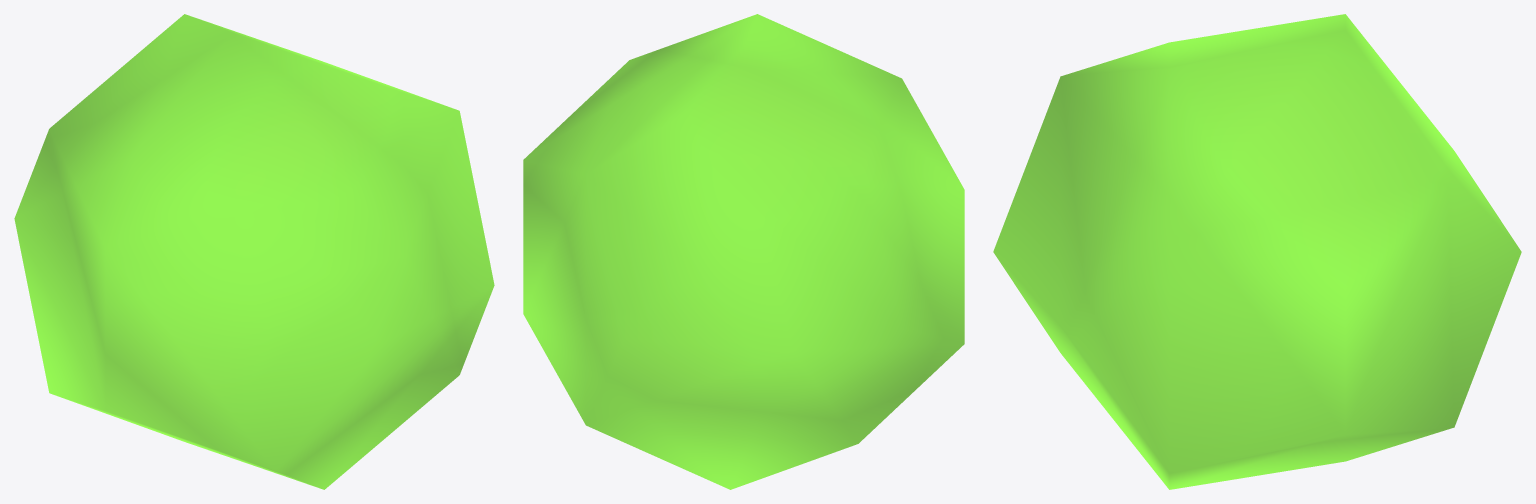
File: forceball-mage.fbx
3 views of the same model, side by side, from view 1: azimuth 30°, elevation 25°; view 2: azimuth 150°, elevation 25°; view 3: azimuth 270°, elevation 25° (orthographic). The views are drawn at different scales.
Parts seen in each view (by area): view 1: mesh01; view 2: mesh01; view 3: mesh01.
Boxes of the visible parts, x1,y1,x2,y2 form: mesh01: (14, 14, 494, 489); mesh01: (523, 14, 964, 489); mesh01: (993, 14, 1521, 489).
Size of the model in its own units: 159 by 170 by 182.
